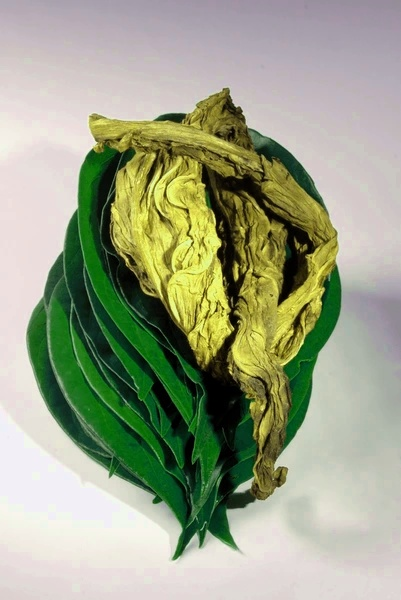bulathwita: (25, 89, 341, 564)
